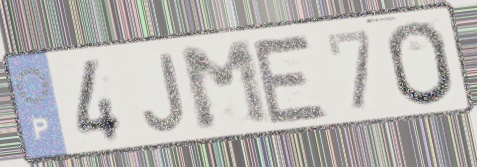4: (73, 54, 124, 146)
7: (323, 25, 376, 114)
E: (247, 32, 333, 127)
J: (139, 49, 189, 135)
M: (175, 37, 275, 135)
O: (384, 19, 458, 109)
